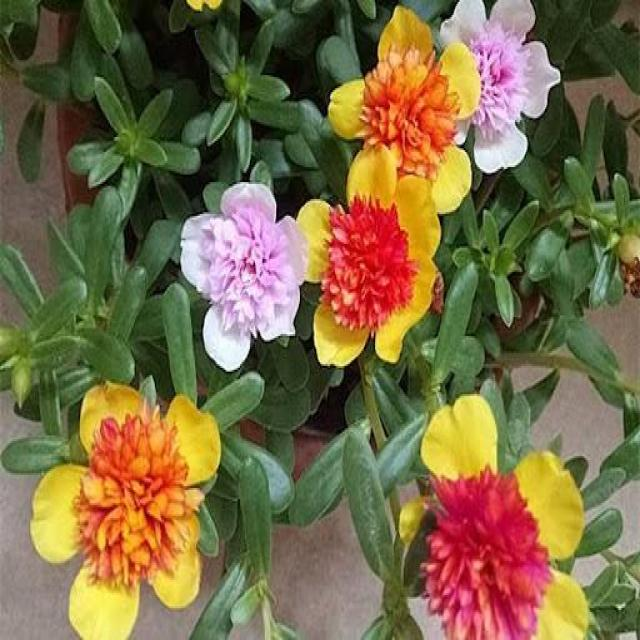organic waste: (23, 386, 228, 632), (393, 398, 598, 632), (317, 6, 479, 225), (282, 148, 446, 364), (168, 168, 310, 376), (427, 8, 564, 174)
